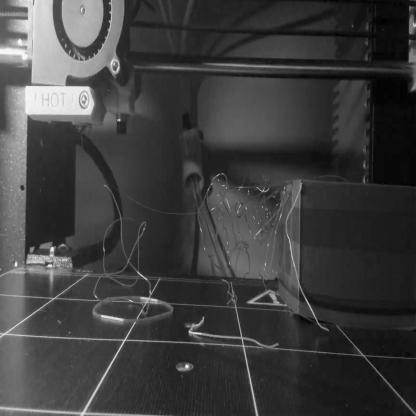fail: (199, 169, 284, 281), (95, 183, 157, 317)
